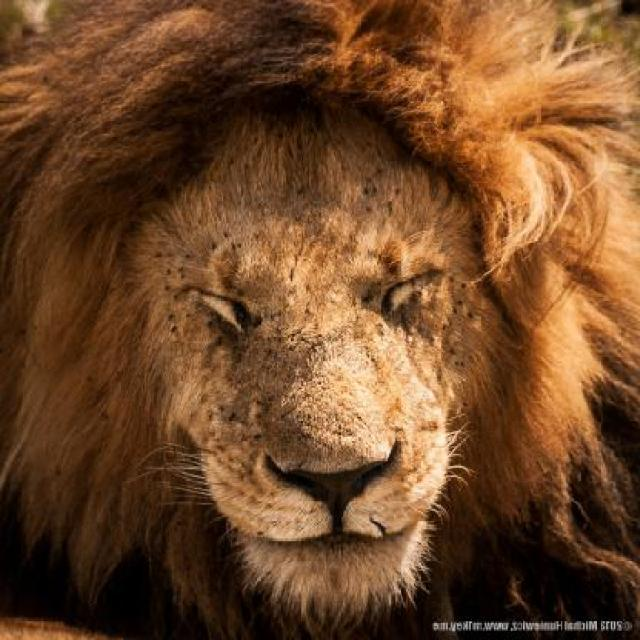Lion: (30, 9, 628, 638)
